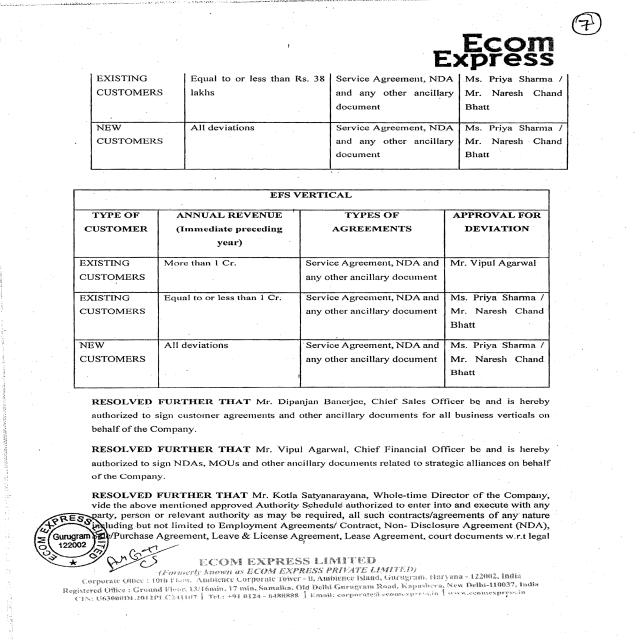page-number: (484, 2, 638, 37)
